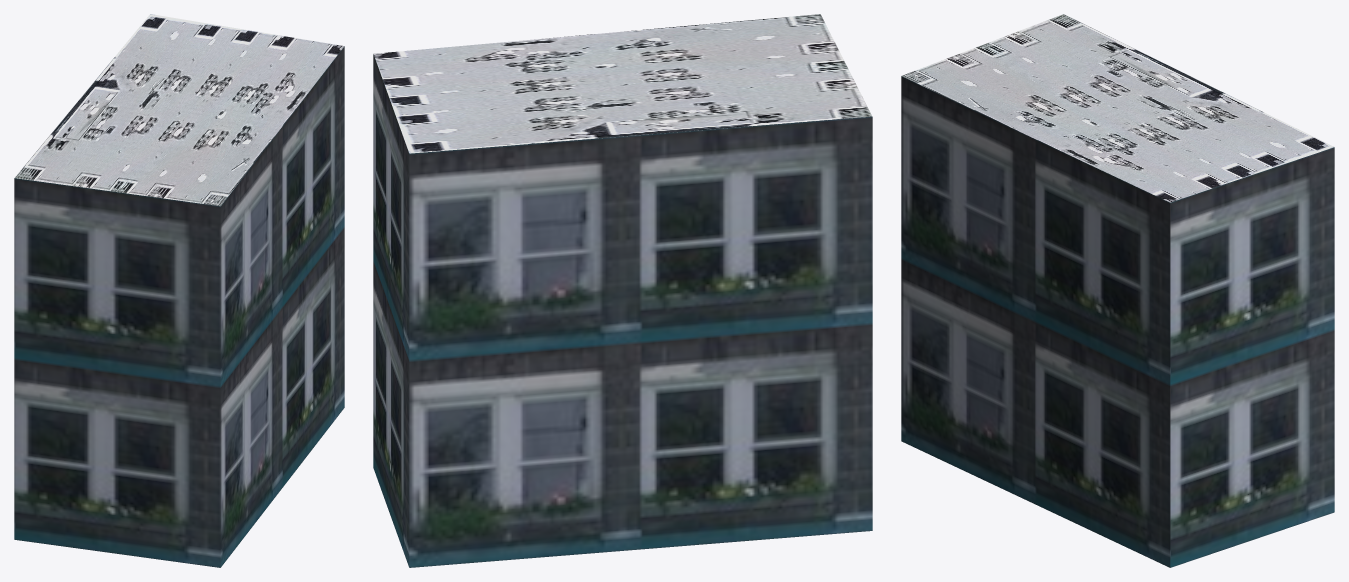
Rendered from ResTex__4158.fbx.
3 renders of one model, left to right at view 1: azimuth 30°, elevation 25°; view 2: azimuth 150°, elevation 25°; view 3: azimuth 270°, elevation 25°, orthographic. The views are drawn at different scales.
Visible parts, largest first — view 1: CityEngineMaterial_11_m, CityEngineMaterial_8_m; view 2: CityEngineMaterial_11_m, CityEngineMaterial_8_m; view 3: CityEngineMaterial_11_m, CityEngineMaterial_8_m.
Boxes of the visible parts, box(x1,y1,x2,y2) form: CityEngineMaterial_11_m: box(14, 46, 344, 567); CityEngineMaterial_8_m: box(15, 14, 344, 206); CityEngineMaterial_11_m: box(373, 54, 872, 567); CityEngineMaterial_8_m: box(373, 14, 872, 153); CityEngineMaterial_11_m: box(901, 76, 1334, 567); CityEngineMaterial_8_m: box(902, 14, 1334, 202).
Bounding box in the file's own units: 6.65 × 6 × 6.45.
2 materials, 2 textured.
